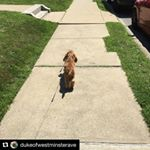puppy: (57, 46, 81, 100)
